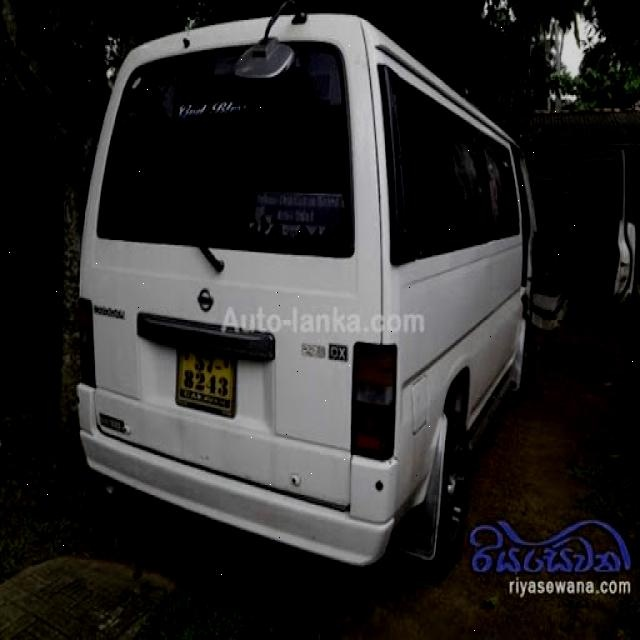Van: (70, 2, 543, 575)
